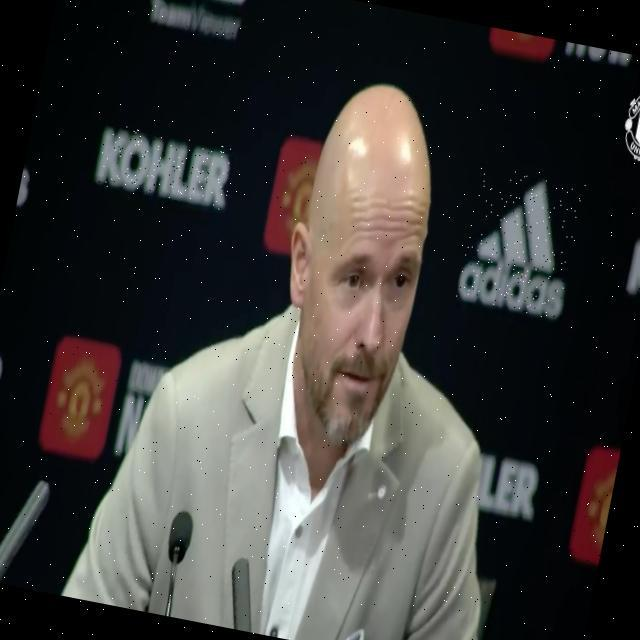Adidas: (455, 166, 586, 321)
Kohler: (93, 123, 236, 213)
TeamViewer: (147, 0, 248, 40)
